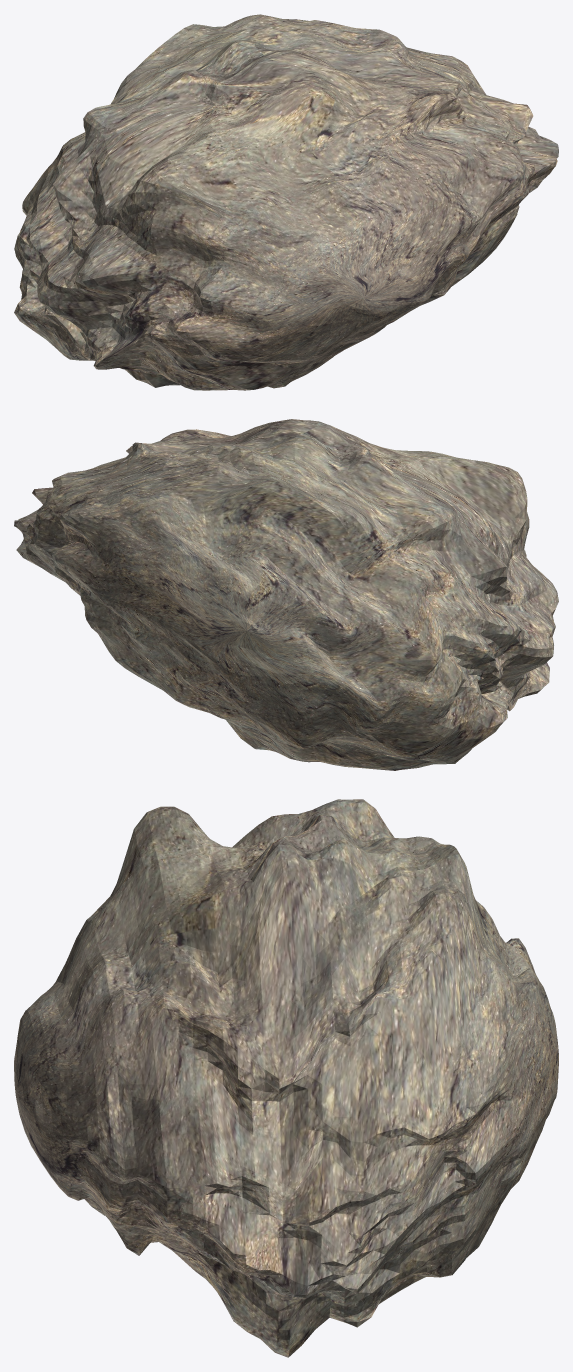
File: newAsteroid.obj
3 renders of one model, top to bottom at view 1: azimuth 30°, elevation 25°; view 2: azimuth 150°, elevation 25°; view 3: azimuth 270°, elevation 25°, orthographic. The views are drawn at different scales.
Visible parts, largest first — view 1: Sphere01; view 2: Sphere01; view 3: Sphere01.
Boxes of the visible parts, x1,y1,x2,y2 form: Sphere01: (14, 14, 558, 390); Sphere01: (14, 419, 558, 770); Sphere01: (14, 799, 558, 1357).
Bounding box in the file's own units: 39.05 × 23.17 × 24.69.
1 material, 1 textured.
